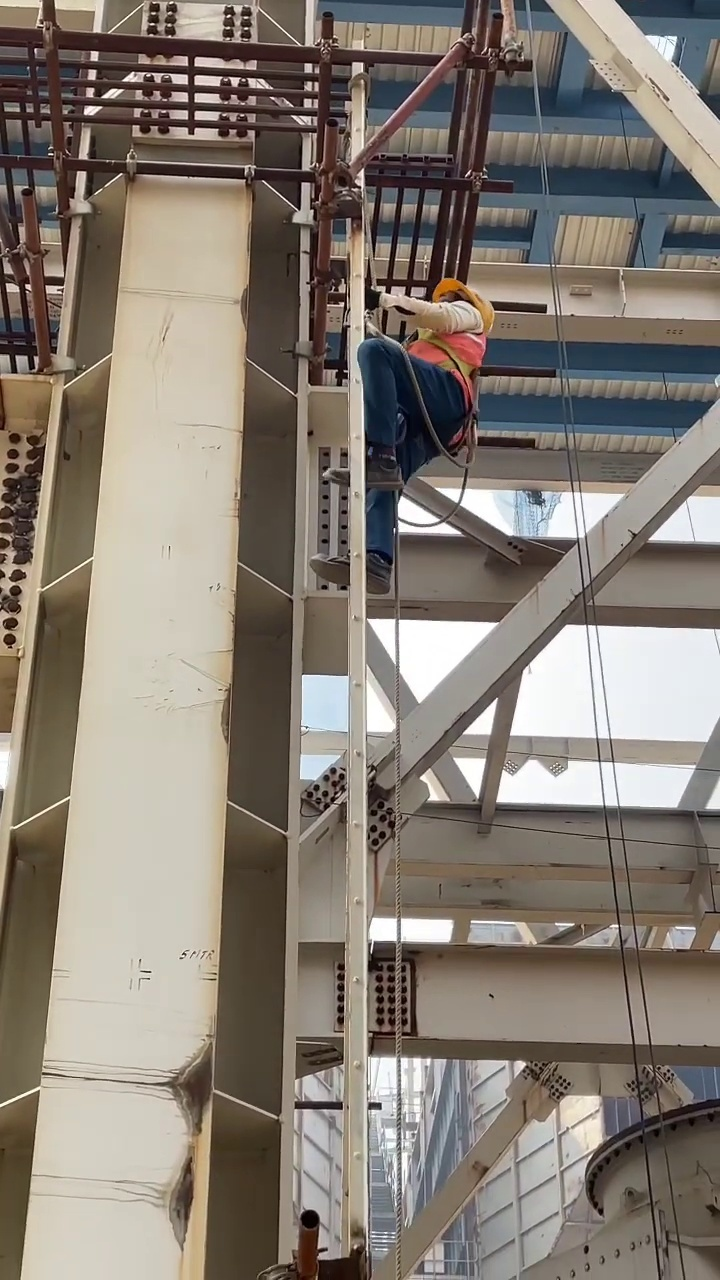Helmet: (433, 278, 495, 328)
Person: (309, 278, 496, 597)
Safety_Harness: (403, 334, 486, 463)
Safety_shoes: (309, 551, 392, 596), (323, 452, 392, 489)
